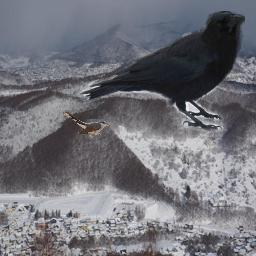Crow: (80, 11, 245, 132)
Cuckoo: (63, 110, 110, 140)
